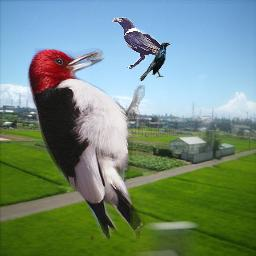Crow: (112, 17, 168, 69), (139, 42, 172, 81)
Woodpecker: (27, 48, 145, 239)
